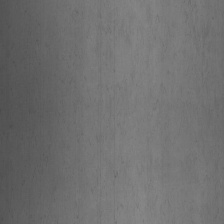silk_spot: (150, 11, 221, 213), (74, 74, 140, 206), (71, 2, 140, 68)
